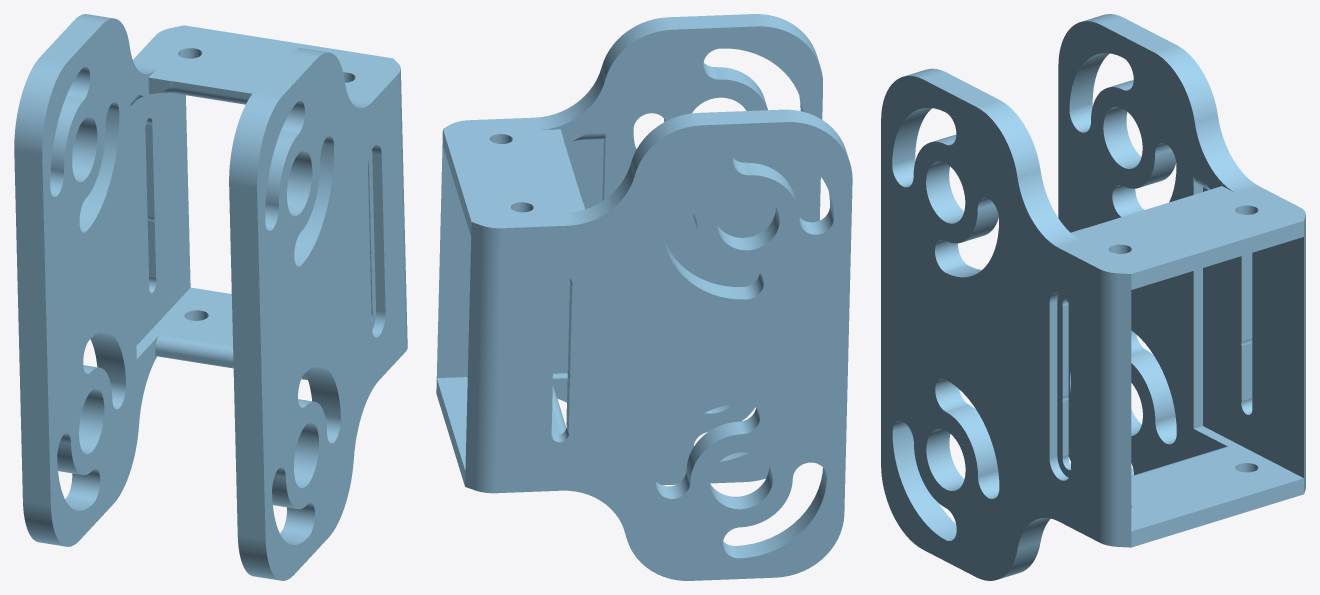
3 views of the same model, side by side, from view 1: azimuth 30°, elevation 25°; view 2: azimuth 150°, elevation 25°; view 3: azimuth 270°, elevation 25° (orthographic). The views are drawn at different scales.
Parts seen in each view (by area): view 1: mesh5346, mesh5437, mesh5427, mesh5390, mesh5348, mesh5413, mesh5399, mesh5391, mesh5354, mesh5447, mesh5366, mesh5376 (+21 smaller); view 2: mesh5436, mesh5404, mesh5413, mesh5417, mesh5382, mesh5381, mesh5399, mesh5439, mesh5392, mesh5347, mesh5394, mesh5352 (+10 smaller); view 3: mesh5346, mesh5437, mesh5427, mesh5413, mesh5399, mesh5377, mesh5378, mesh5379, mesh5380, mesh5358, mesh5393, mesh5350 (+25 smaller).
Boxes of the visible parts, <box> form: mesh5346: <box>257,52,405,580</box>; mesh5437: <box>42,18,158,546</box>; mesh5427: <box>130,93,190,345</box>; mesh5390: <box>14,151,50,505</box>; mesh5348: <box>229,185,265,539</box>; mesh5413: <box>133,25,400,101</box>; mesh5399: <box>136,287,232,358</box>; mesh5391: <box>14,57,67,155</box>; mesh5354: <box>229,91,282,189</box>; mesh5447: <box>79,110,119,230</box>; mesh5366: <box>294,144,333,264</box>; mesh5376: <box>372,153,385,312</box>; mesh5436: <box>496,122,852,580</box>; mesh5404: <box>542,26,822,485</box>; mesh5413: <box>443,117,584,228</box>; mesh5417: <box>436,139,603,378</box>; mesh5382: <box>475,225,502,493</box>; mesh5381: <box>465,222,481,490</box>; mesh5399: <box>437,373,567,469</box>; mesh5439: <box>736,468,826,558</box>; mesh5392: <box>698,109,786,125</box>; mesh5347: <box>668,14,756,29</box>; mesh5394: <box>564,164,634,225</box>; mesh5352: <box>601,17,671,79</box>; mesh5346: <box>881,76,1099,580</box>; mesh5437: <box>1058,21,1232,474</box>; mesh5427: <box>1203,187,1303,477</box>; mesh5413: <box>1059,186,1305,273</box>; mesh5399: <box>1131,426,1303,531</box>; mesh5377: <box>1099,269,1118,546</box>; mesh5378: <box>1118,273,1131,547</box>; mesh5379: <box>1131,478,1303,547</box>; mesh5380: <box>1131,221,1303,289</box>; mesh5358: <box>892,427,956,539</box>; mesh5393: <box>1154,45,1217,122</box>; mesh5350: <box>1017,170,1081,247</box>.
Size of the model in its own units: 0.0787 by 0.089 by 0.0729.
